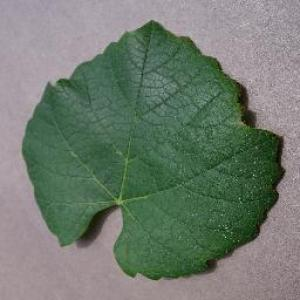Folha: (20, 19, 285, 280)
